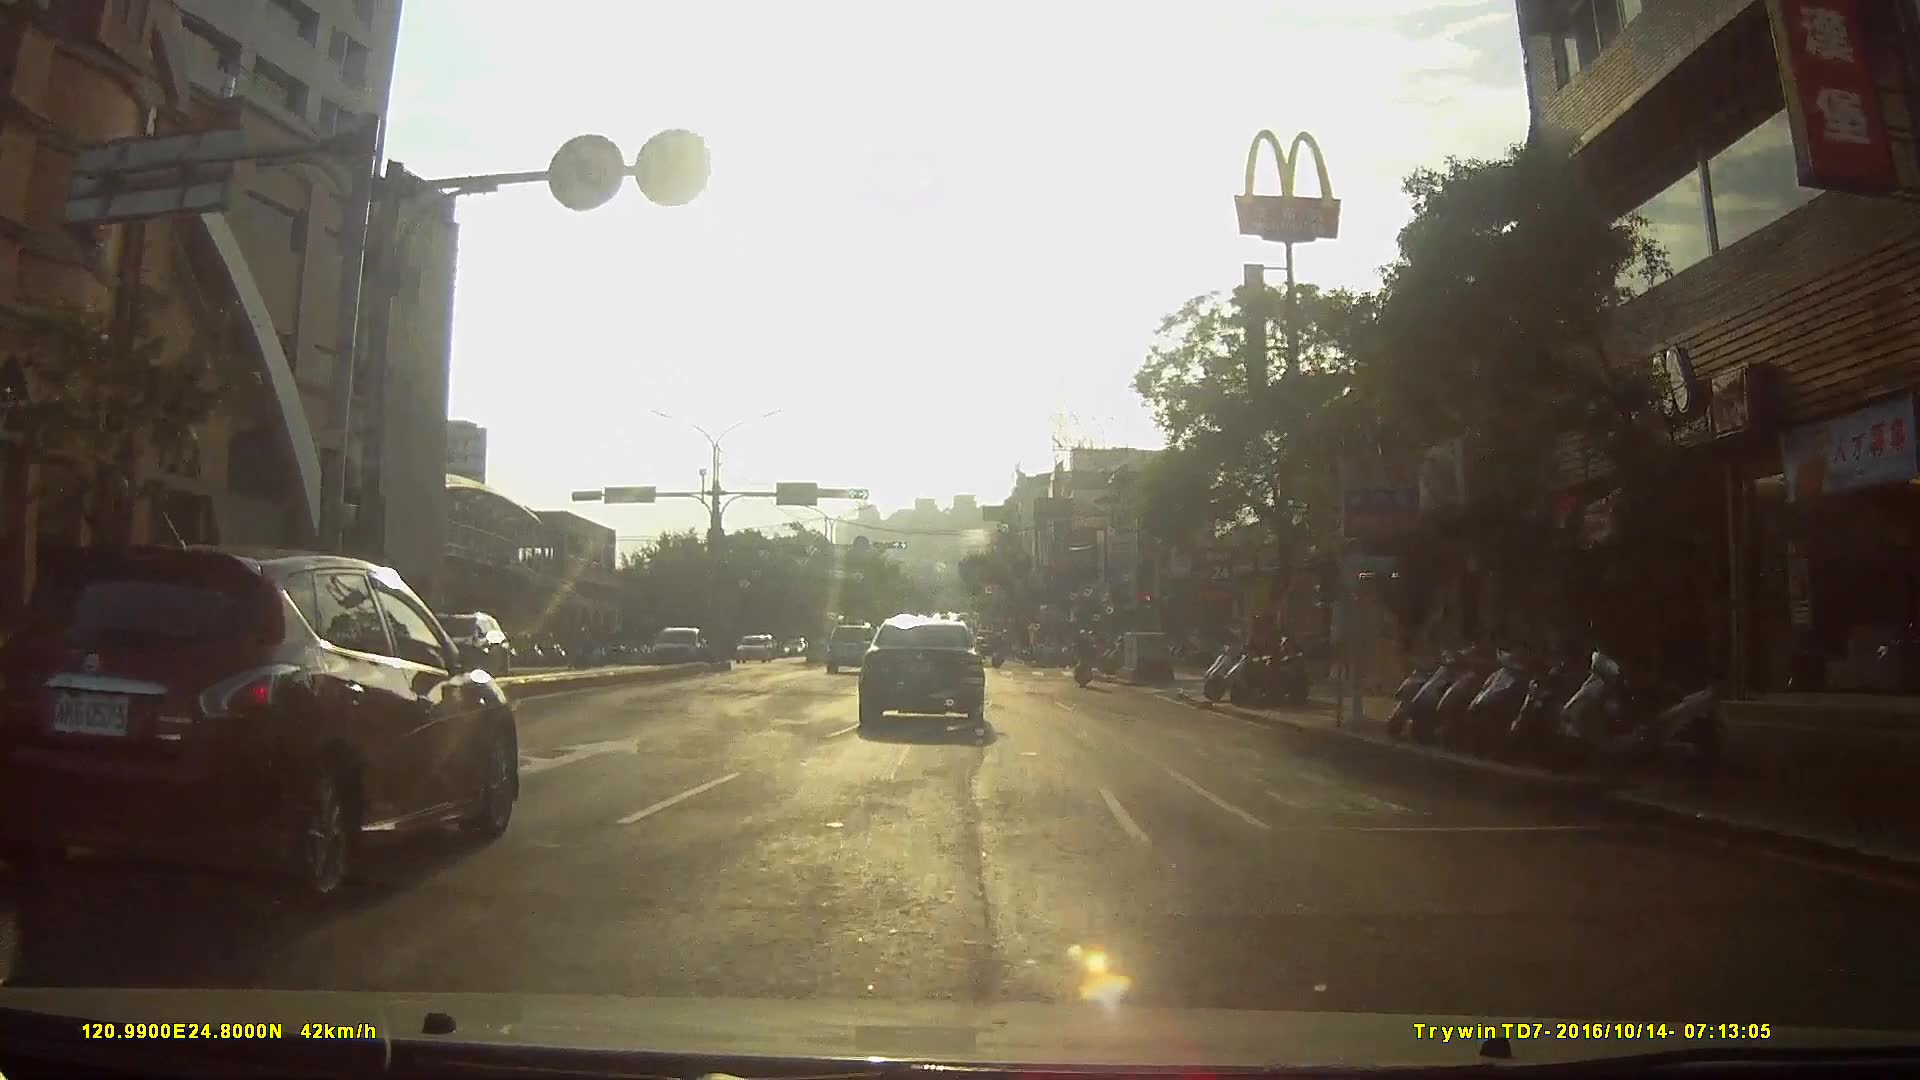rider: (1070, 628, 1095, 693), (988, 635, 1008, 671)
vehicle: (4, 537, 531, 915), (850, 611, 995, 735), (405, 607, 519, 683), (640, 623, 709, 673), (820, 623, 877, 678), (733, 634, 773, 666)
